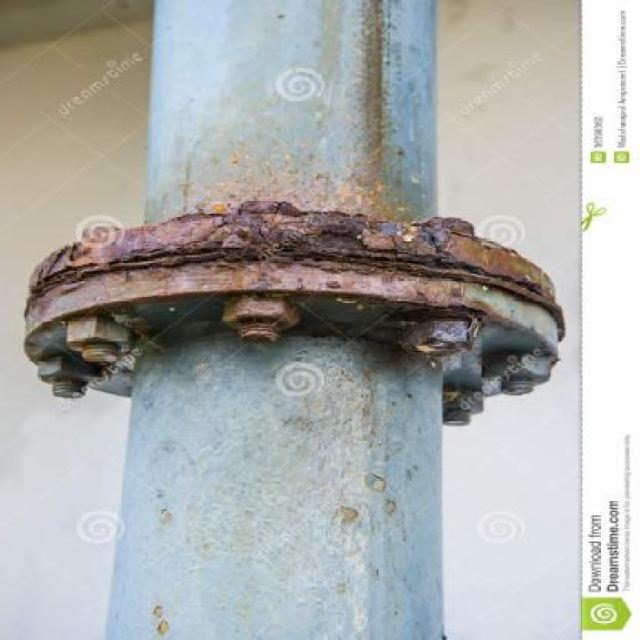corrosion: (28, 0, 569, 640)
